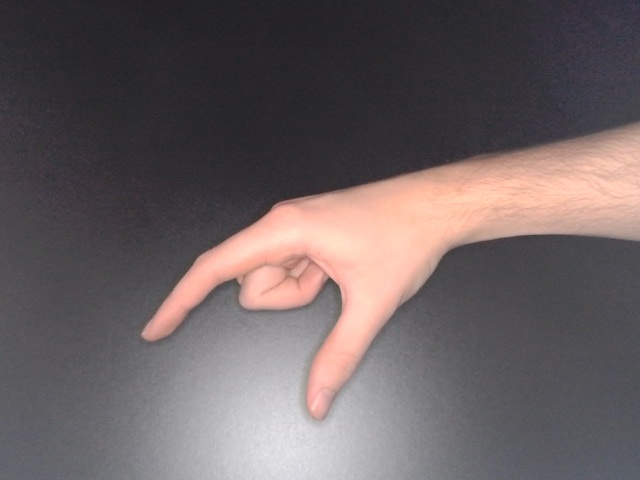q: (137, 164, 503, 427)
